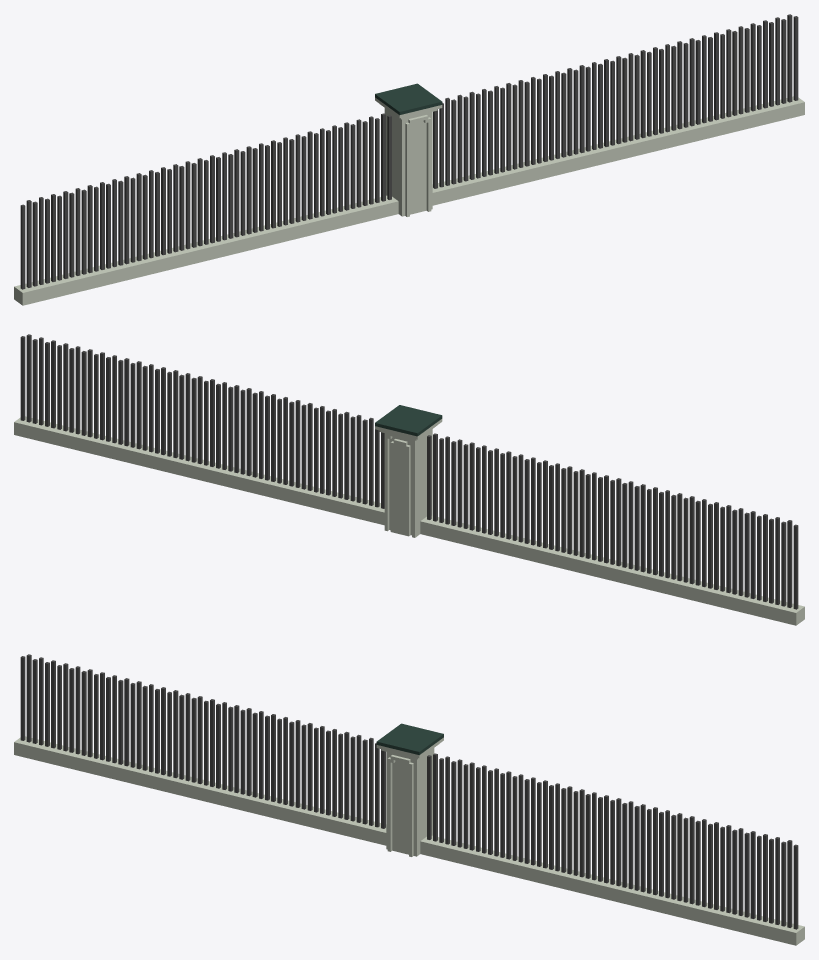
Rendered from gate_back.obj.
3 renders of one model, top to bottom at view 1: azimuth 30°, elevation 25°; view 2: azimuth 150°, elevation 25°; view 3: azimuth 330°, elevation 25°, orthographic.
Size of the model in its own units: 25.6 by 3.4 by 1.4.
1 material, 1 textured.
